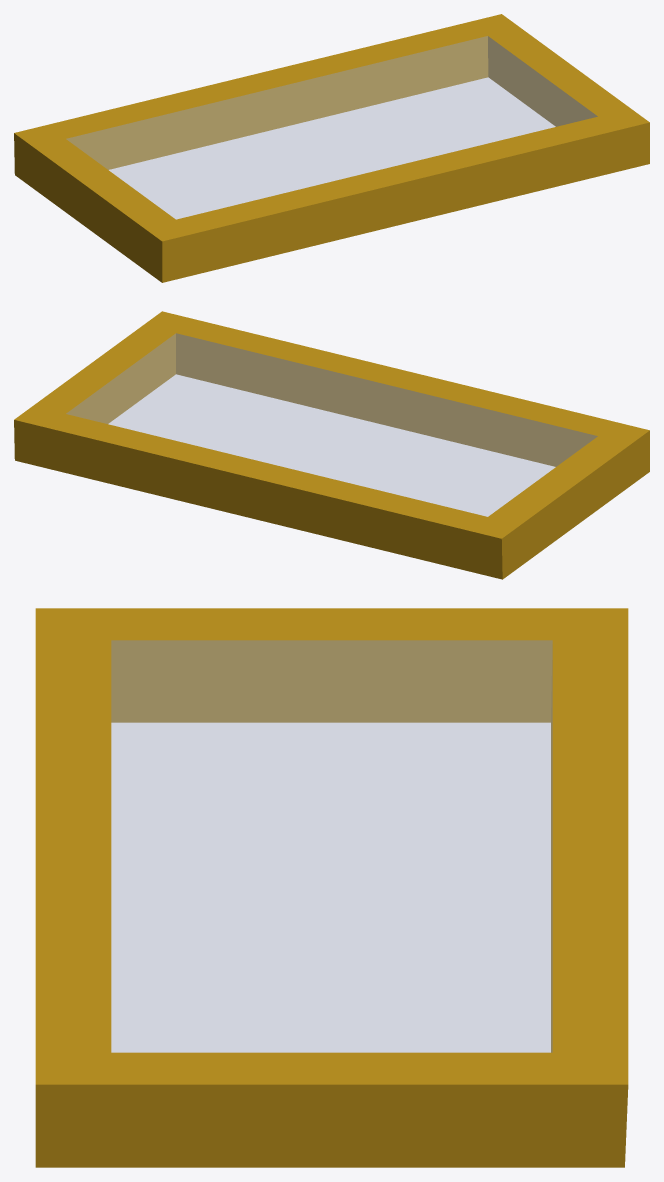
File: small shelf with glass gold.glb
The picture shows the model from 3 angles, top to bottom: view 1: azimuth 30°, elevation 25°; view 2: azimuth 150°, elevation 25°; view 3: azimuth 270°, elevation 25°; orthographic projection. The views are drawn at different scales.
Visible parts, largest first — view 1: floating shelf glass gold; view 2: floating shelf glass gold; view 3: floating shelf glass gold.
Boxes of the visible parts, box(x1,y1,x2,y2) form: floating shelf glass gold: box(14, 14, 649, 282); floating shelf glass gold: box(14, 311, 649, 579); floating shelf glass gold: box(35, 608, 628, 1167).
Size of the model in its own units: 1.33 by 0.1081 by 0.7.
